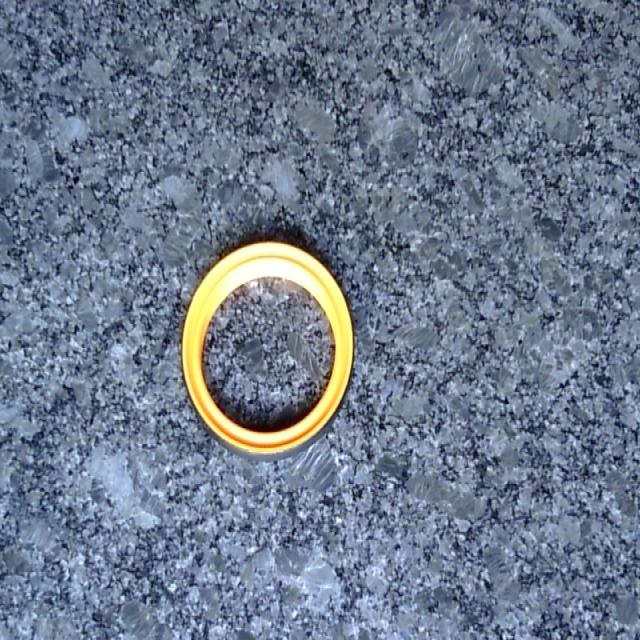orange-2W-ring: (182, 243, 352, 455)
